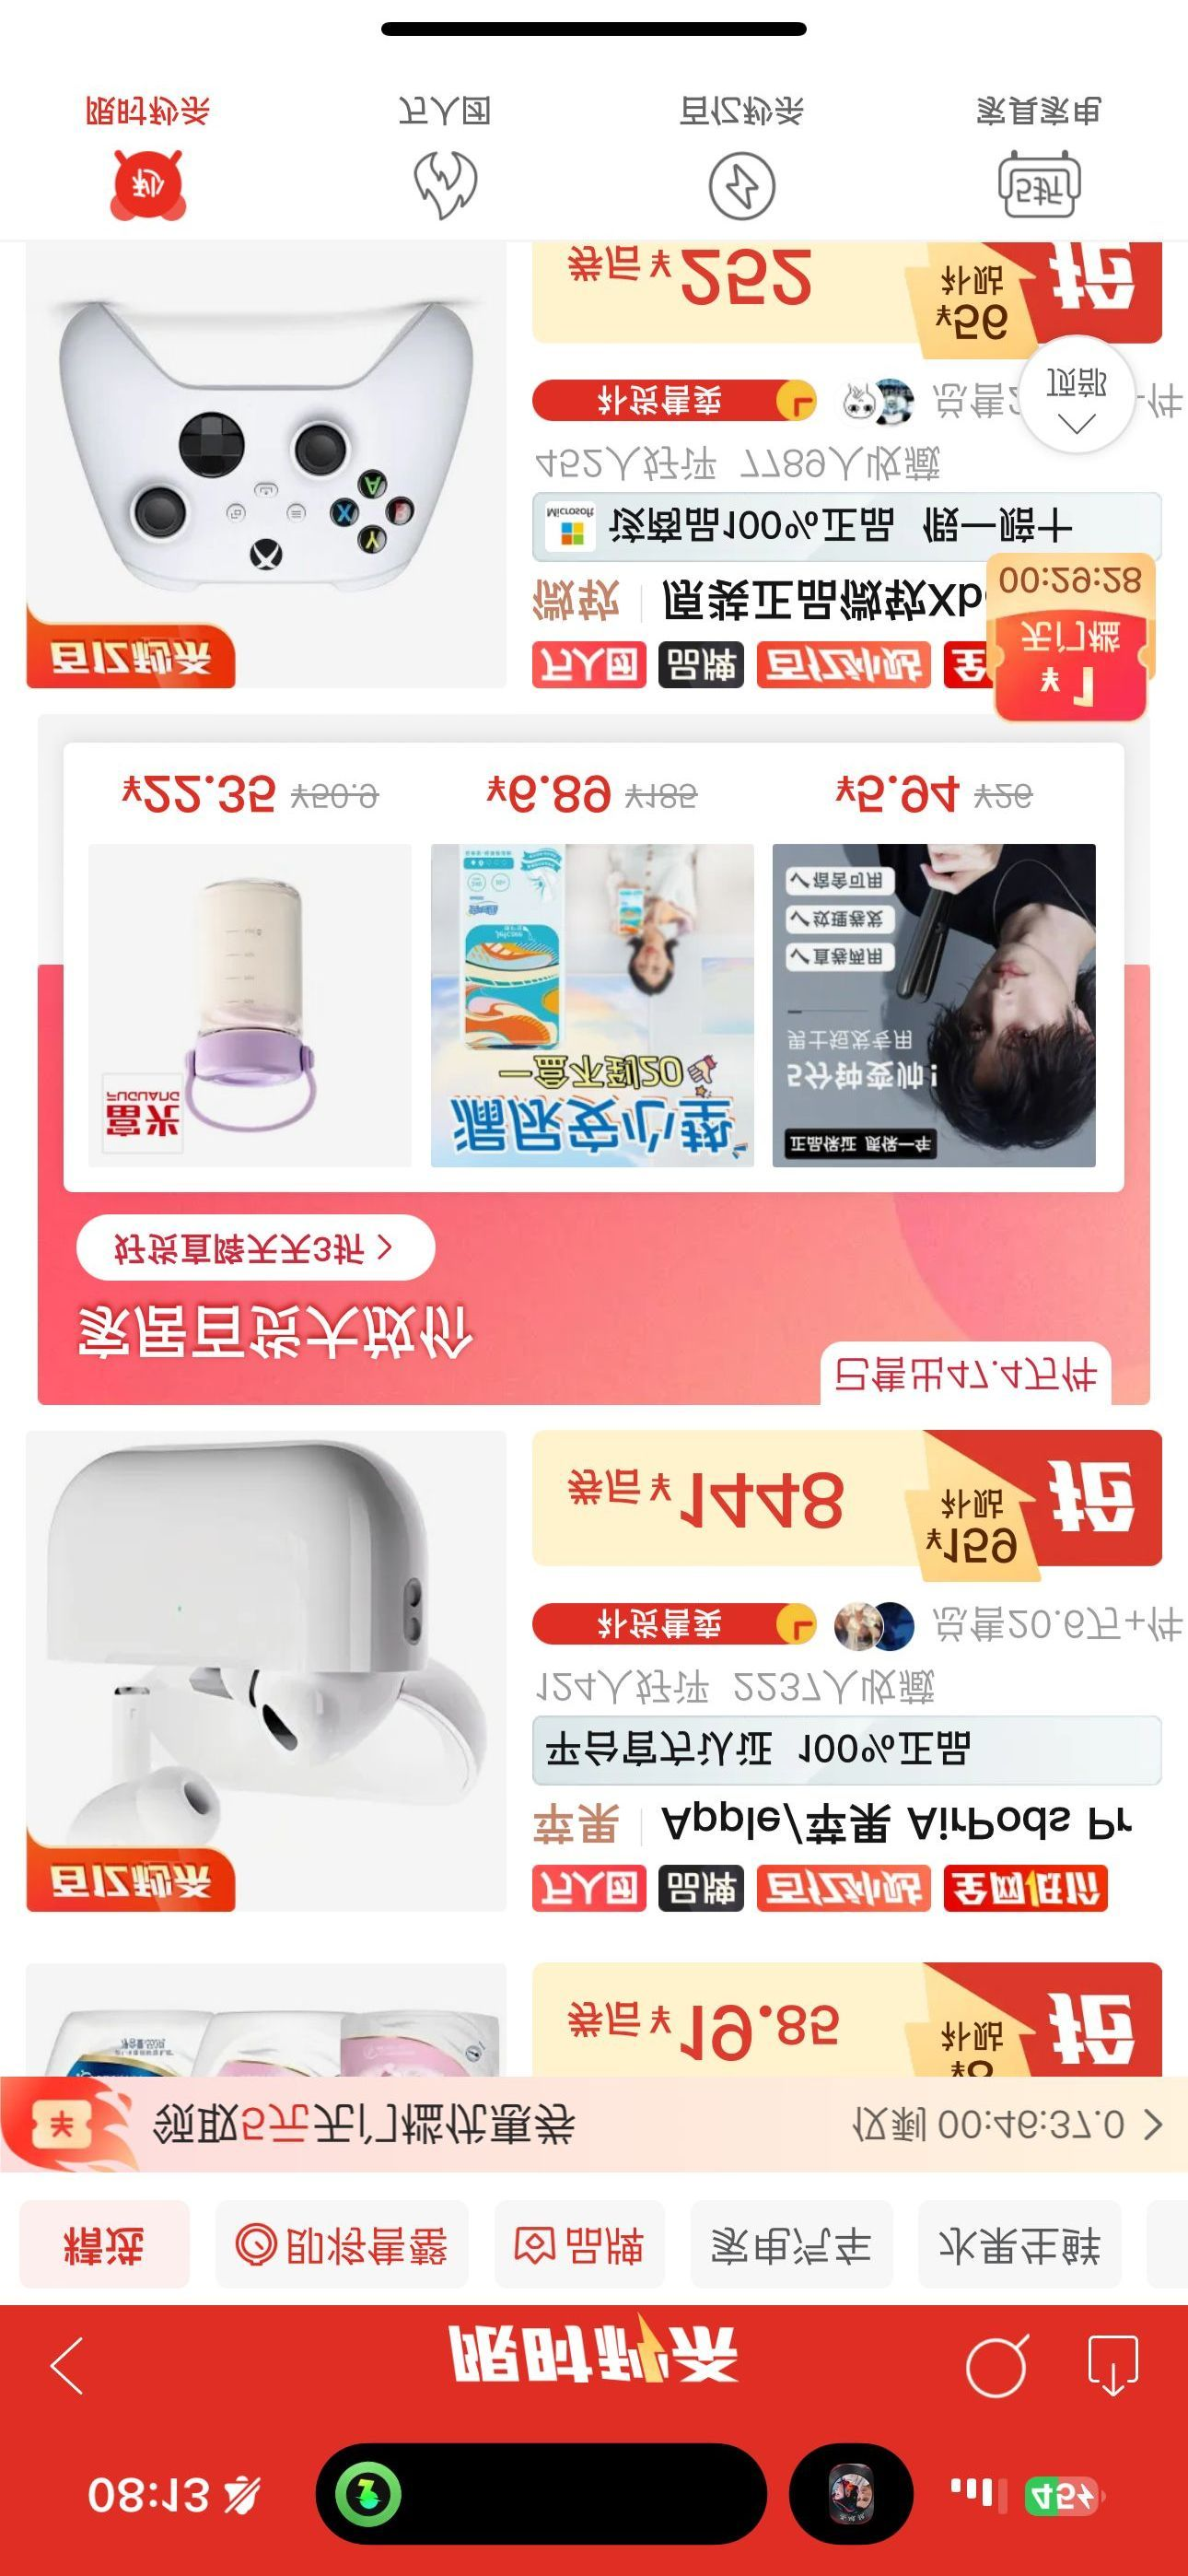banner: (28, 720, 1147, 1408)
item: (21, 1431, 1160, 1919), (26, 235, 1167, 705)
op_bar: (7, 2330, 1176, 2422)
